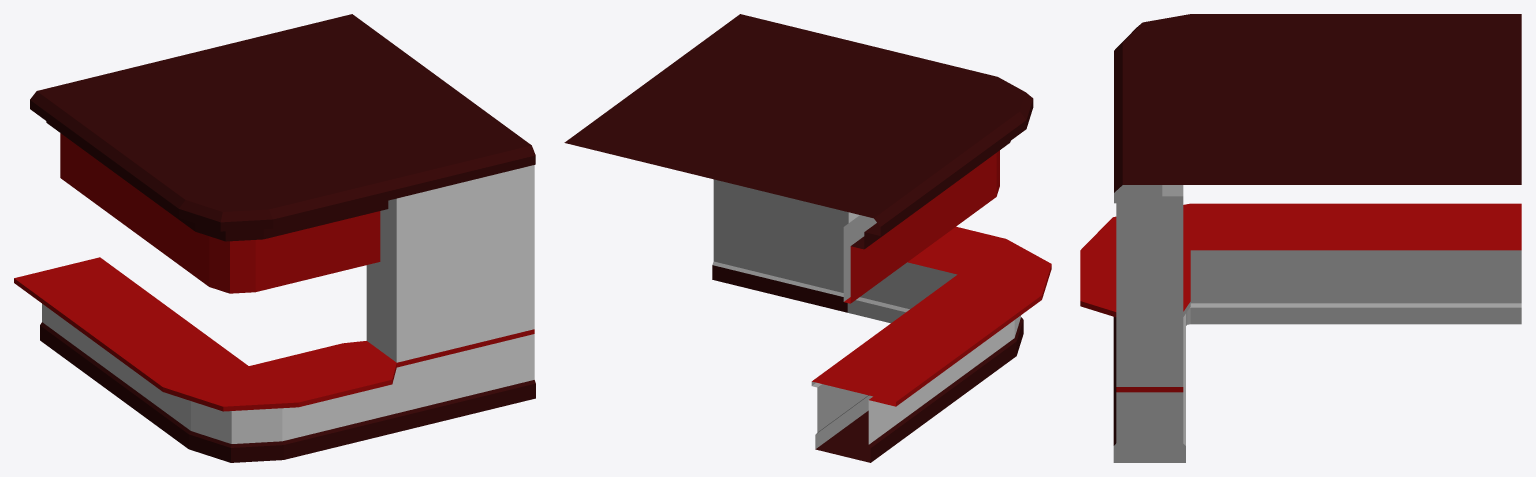
Rendered from Bilheteira_Final.fbx.
The picture shows the model from 3 angles, left to right: view 1: azimuth 30°, elevation 25°; view 2: azimuth 150°, elevation 25°; view 3: azimuth 270°, elevation 25°; orthographic projection. The views are drawn at different scales.
Visible parts, largest first — view 1: Frente Bilheteira, Bilheteira Parede, Bilheteira Lado, Bilheteira Berma; view 2: Frente Bilheteira, Bilheteira Parede, Bilheteira Lado, Bilheteira Berma; view 3: Frente Bilheteira, Bilheteira Parede, Bilheteira Lado, Bilheteira Berma.
Boxes of the visible parts, x1=… form: Frente Bilheteira: x1=14, y1=14, x2=500, y2=448; Bilheteira Parede: x1=363, y1=123, x2=535, y2=431; Bilheteira Lado: x1=239, y1=156, x2=397, y2=459; Bilheteira Berma: x1=163, y1=187, x2=298, y2=462; Frente Bilheteira: x1=564, y1=36, x2=1041, y2=462; Bilheteira Parede: x1=710, y1=14, x2=874, y2=312; Bilheteira Lado: x1=846, y1=47, x2=1005, y2=323; Bilheteira Berma: x1=961, y1=77, x2=1051, y2=355; Frente Bilheteira: x1=1190, y1=14, x2=1521, y2=324; Bilheteira Parede: x1=1113, y1=110, x2=1190, y2=462; Bilheteira Lado: x1=1080, y1=42, x2=1190, y2=370; Bilheteira Berma: x1=1081, y1=14, x2=1190, y2=250.
Size of the model in its own units: 1880 by 1329 by 1911.
